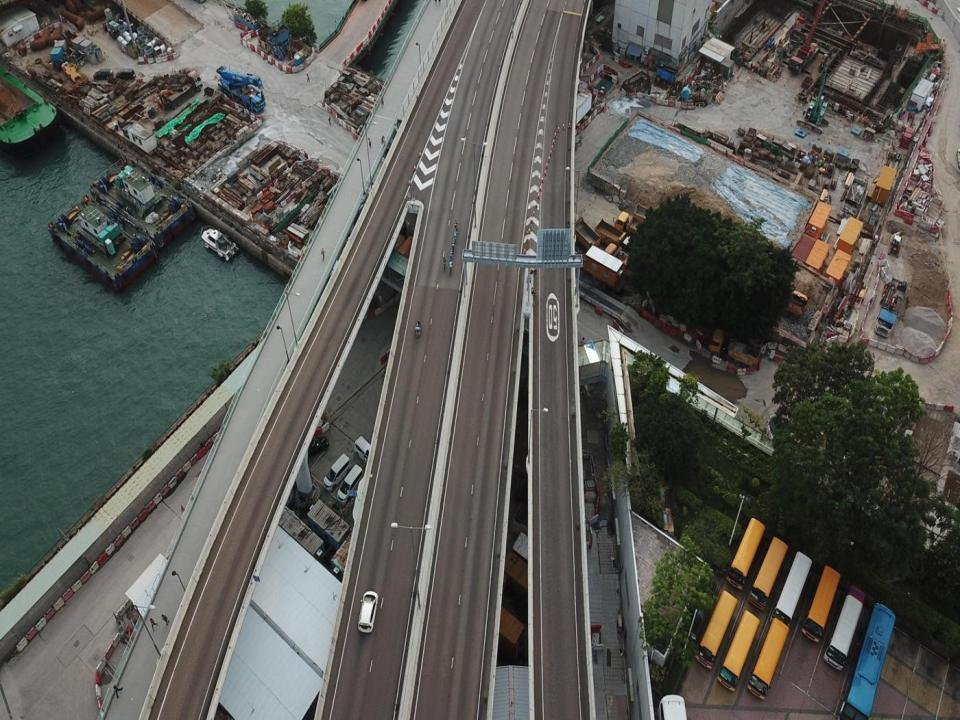bus: (839, 601, 896, 719), (745, 615, 790, 700), (824, 583, 866, 672), (693, 589, 737, 669), (768, 549, 813, 626), (717, 608, 759, 690), (724, 516, 766, 590), (748, 538, 789, 612), (802, 566, 840, 642), (656, 695, 687, 719)
car: (297, 435, 328, 459)
truck: (612, 211, 666, 253), (708, 328, 761, 368), (155, 70, 203, 112), (874, 276, 907, 337), (594, 217, 640, 257), (602, 242, 648, 280), (633, 202, 684, 236), (768, 282, 808, 320), (565, 216, 601, 255)
van: (322, 452, 351, 492), (337, 464, 364, 505), (358, 590, 379, 632), (355, 435, 379, 470), (115, 68, 136, 82), (93, 68, 114, 80)
